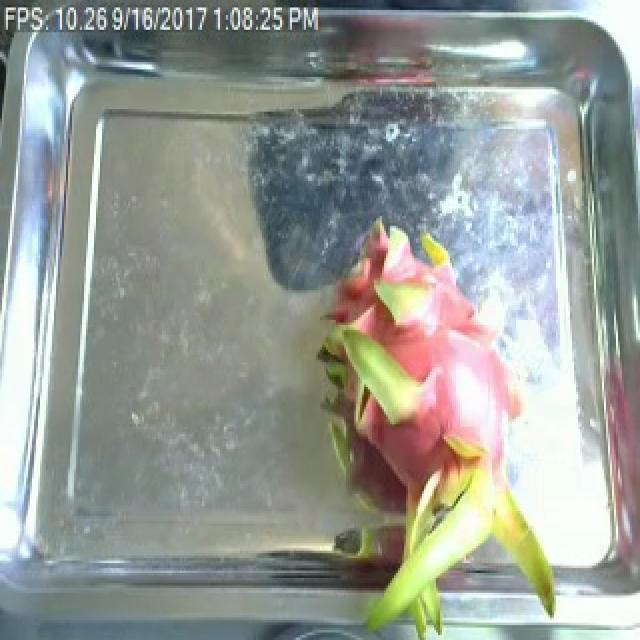fruit: (286, 223, 564, 640)
